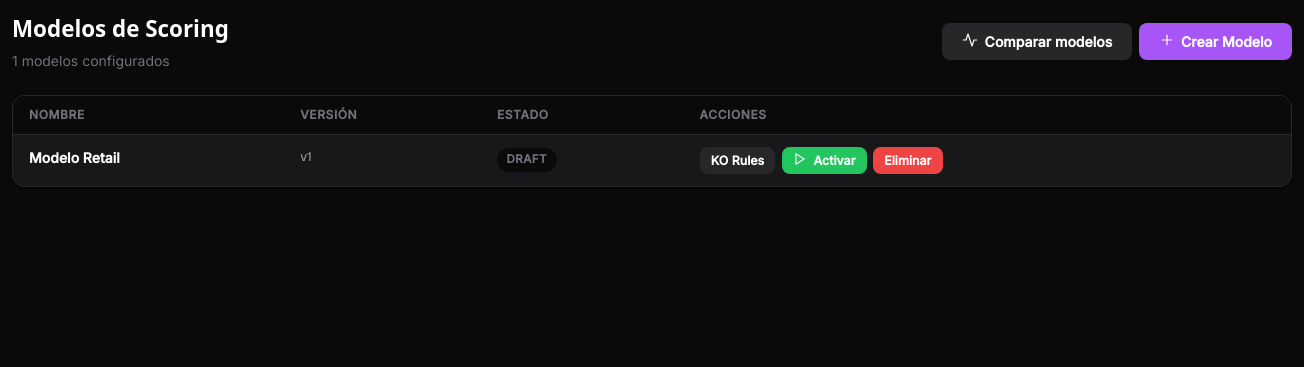
Test: ScoringModels — KO expand panel › renders KO rules with base .badge class (not .badge-DRAFT) for operator
Check: the text "Modelo Retail" is shown, box x1=29 y1=149 x2=120 y2=166
Click the button "KO Rules": [738, 161] box x1=700 y1=147 x2=775 y2=174
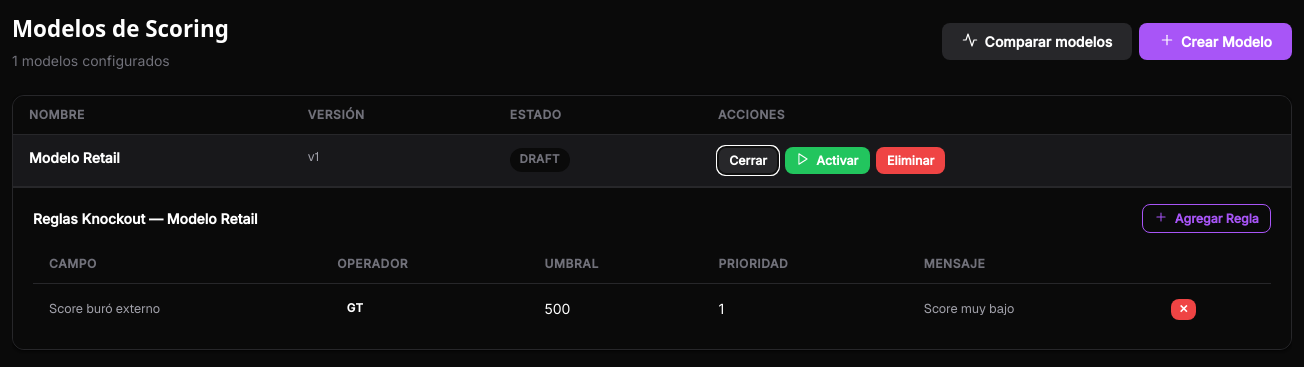
Check: the text "GT" is shown, box x1=347 y1=301 x2=364 y2=315
